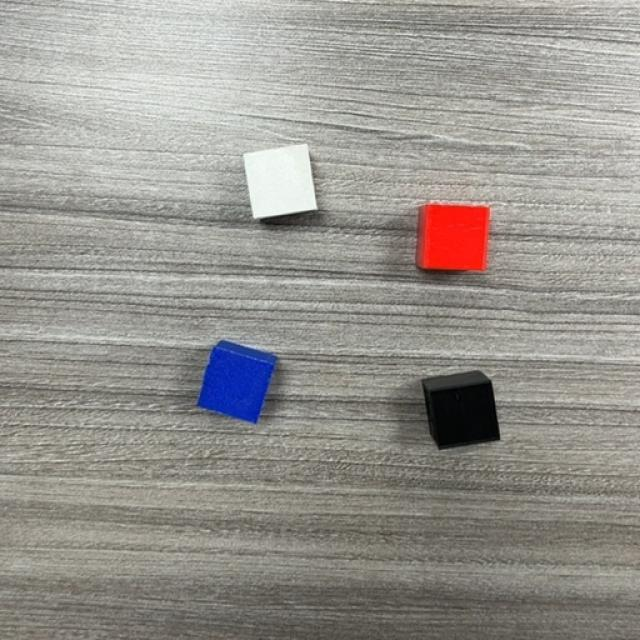Azul: (199, 348, 280, 420)
Blanco: (247, 146, 313, 219)
Negro: (423, 372, 501, 447)
Rojo: (418, 208, 494, 269)
